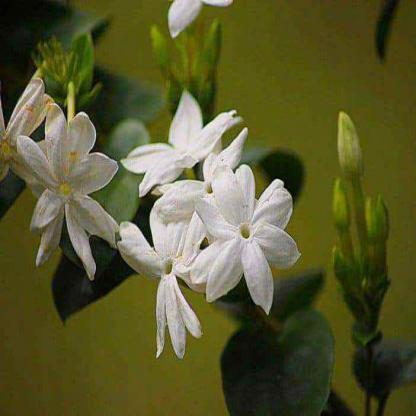Melati: (1, 55, 119, 283), (138, 75, 221, 355), (316, 102, 402, 324), (189, 143, 287, 332)
